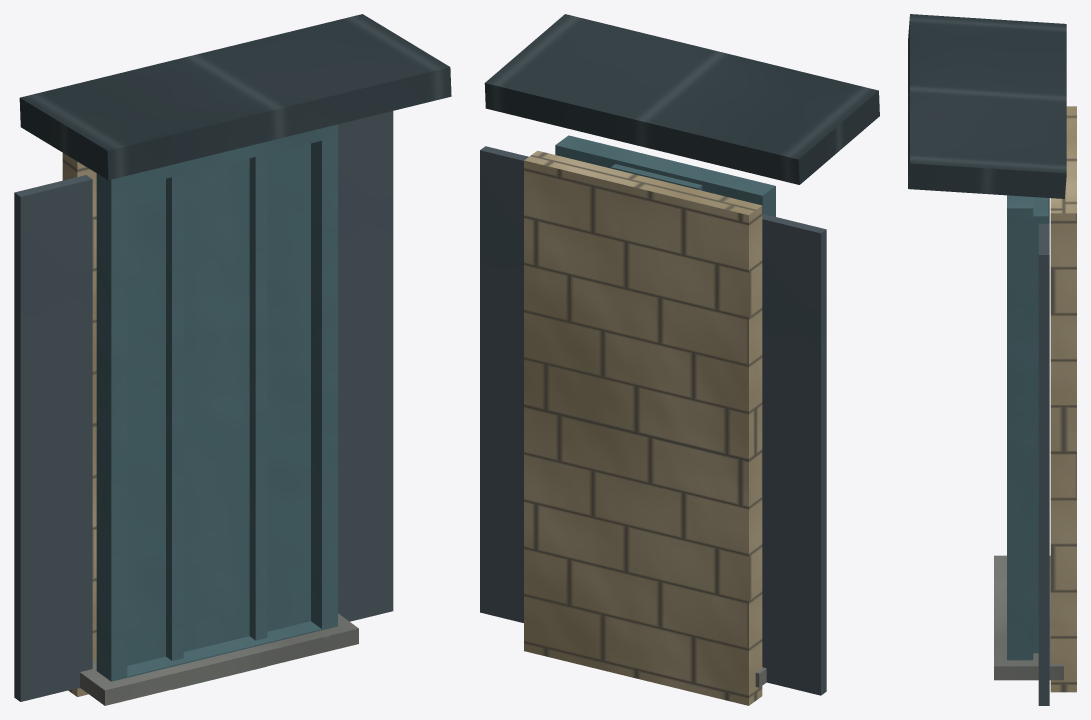
The model's file is door-rowhouse-entry.lod1.gltf.
3 renders of one model, left to right at view 1: azimuth 30°, elevation 25°; view 2: azimuth 150°, elevation 25°; view 3: azimuth 270°, elevation 25°, orthographic. The views are drawn at different scales.
Visible parts, largest first — view 1: door-rowhouse-entry; view 2: door-rowhouse-entry; view 3: door-rowhouse-entry.
Boxes of the visible parts, box(x1,y1,x2,y2) form: door-rowhouse-entry: box(14, 14, 451, 705); door-rowhouse-entry: box(480, 14, 879, 705); door-rowhouse-entry: box(908, 14, 1076, 705).
Bounding box in the file's own units: 1.76 × 2.78 × 0.7737.
5 materials, 5 textured.
